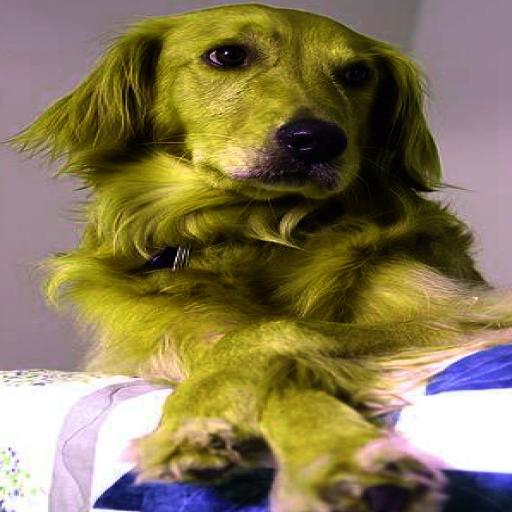dog_face: (17, 0, 439, 225)
